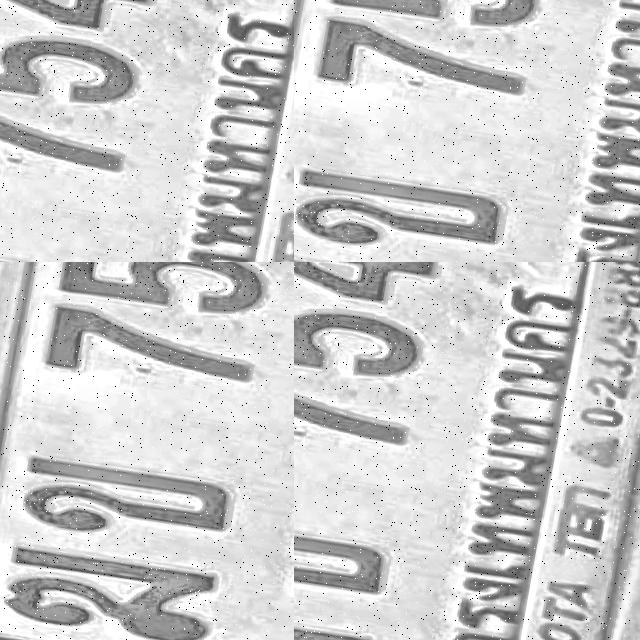license-plate: (294, 262, 640, 640), (0, 324, 255, 640), (0, 0, 294, 262), (471, 215, 553, 262)
